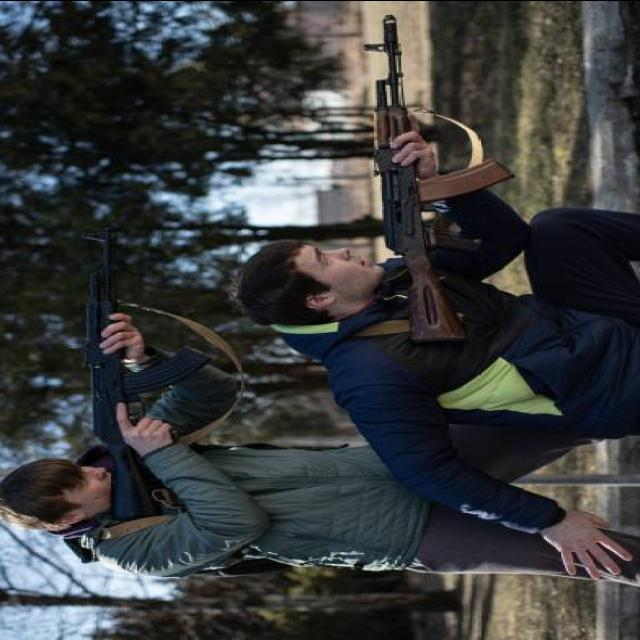terrorist: (233, 15, 640, 578), (0, 229, 588, 578)
